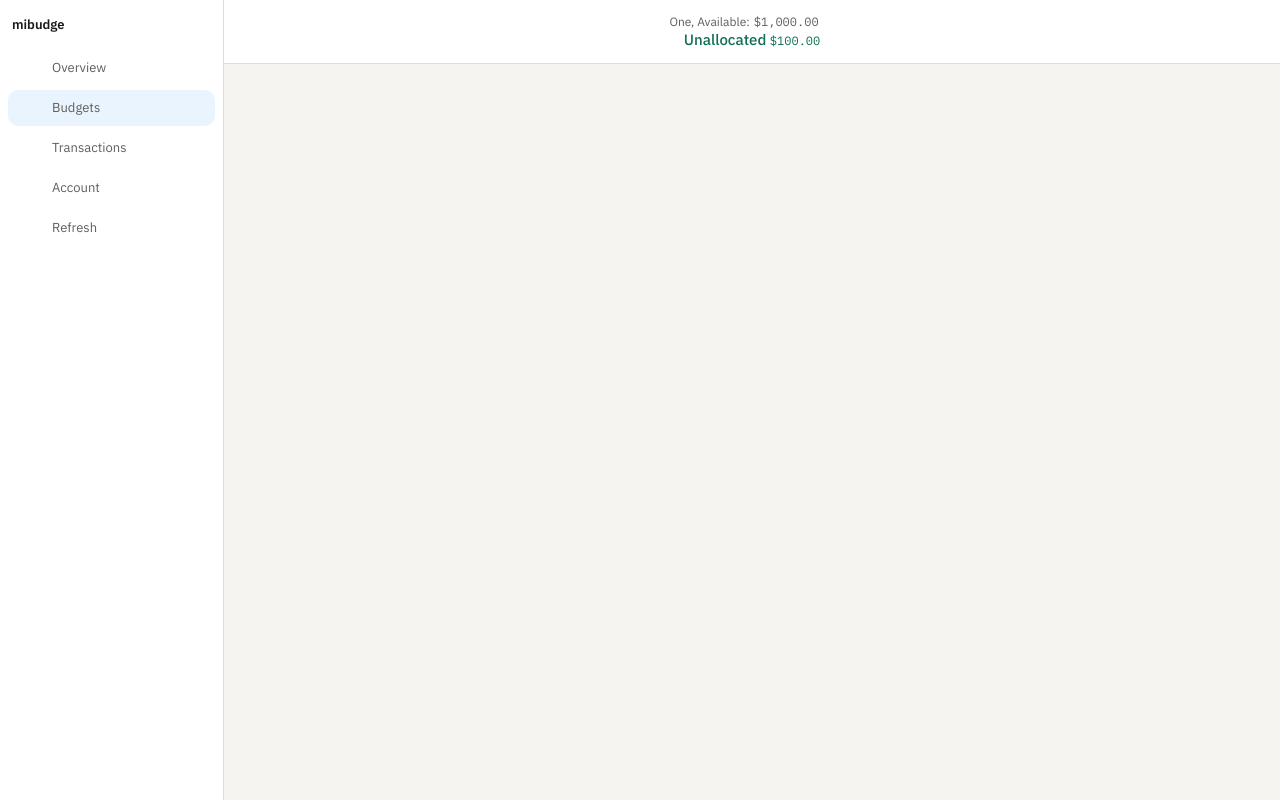
Test: account switcher › switches the active account
Click the button with aria-label "Switch bank account": (752, 32) [284,14,1220,50]
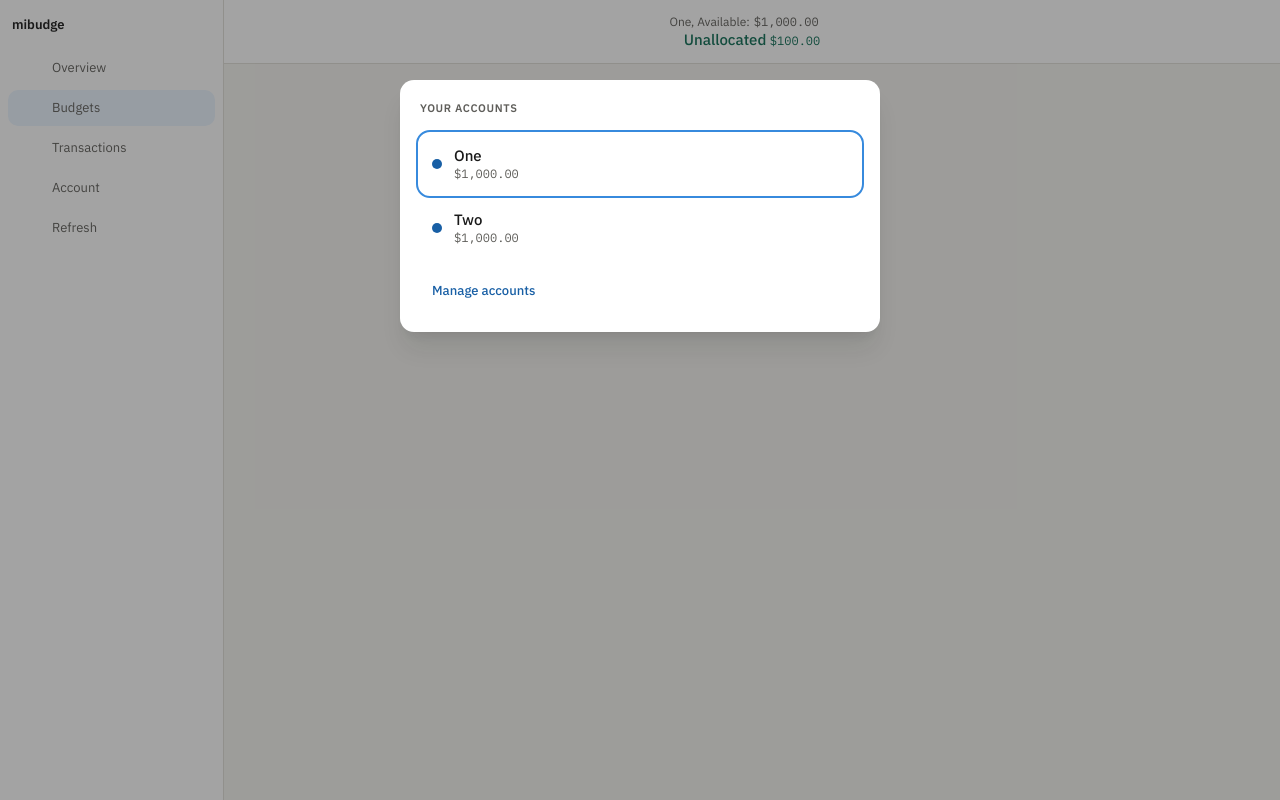
Result: the dialog shows "Two"
Click the button "Two $1,000.00": (486, 237) [420,198,860,258]
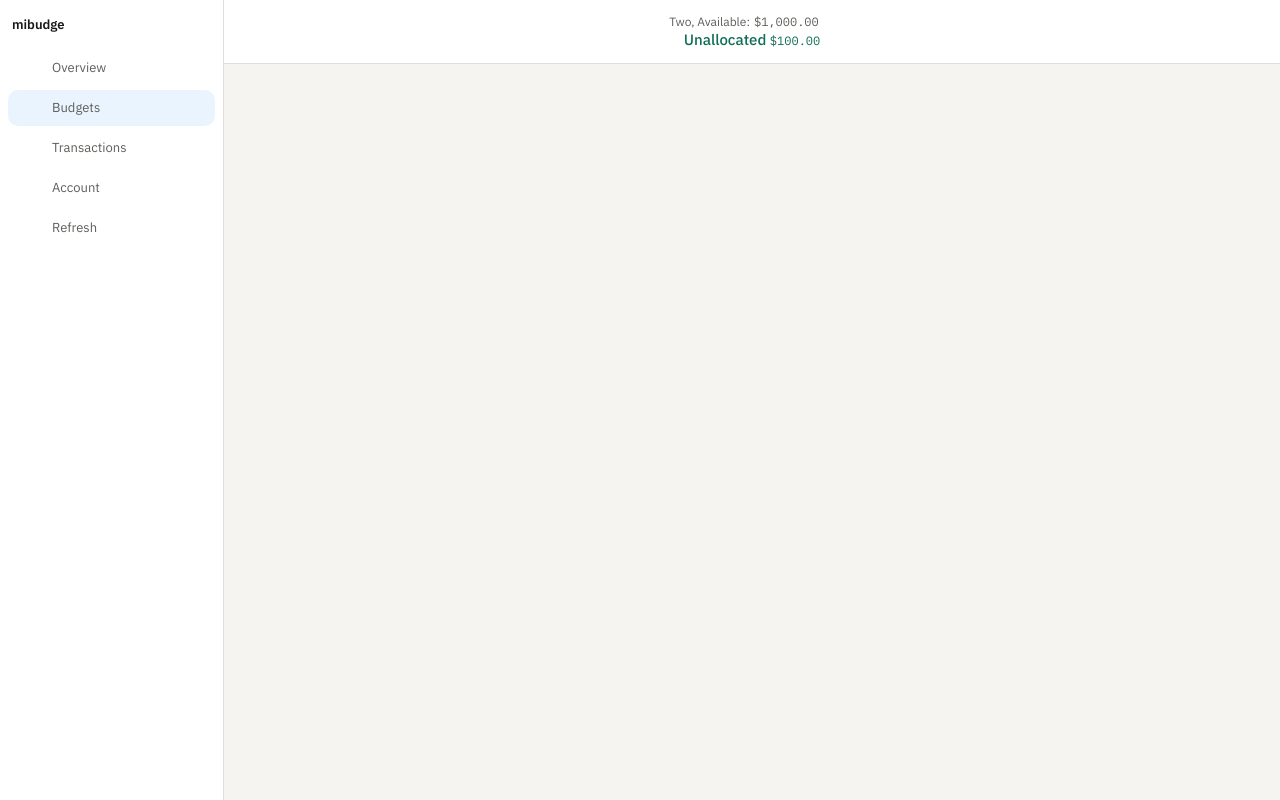
Result: the dialog is gone
